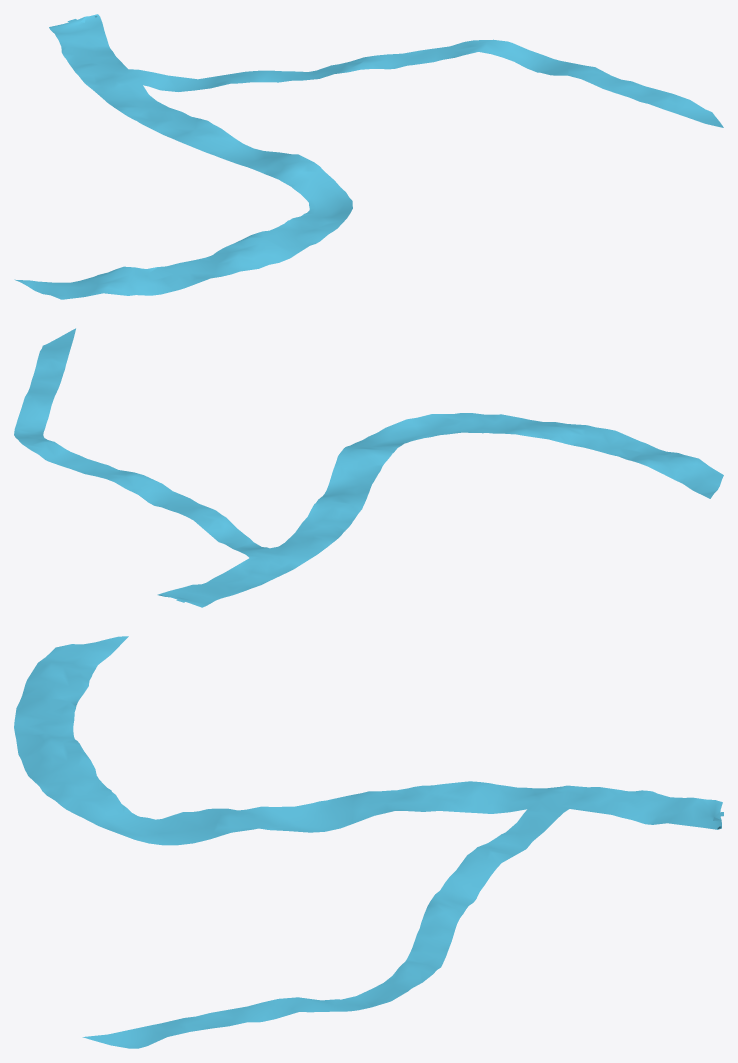
3 views of the same model, one above another, from view 1: azimuth 30°, elevation 25°; view 2: azimuth 150°, elevation 25°; view 3: azimuth 270°, elevation 25° (orthographic). The views are drawn at different scales.
Visible parts, largest first — view 1: 川; view 2: 川; view 3: 川.
Part boxes in pixels (left/top/right/bottom): 川: left=14, top=14, right=723, bottom=299; 川: left=14, top=328, right=723, bottom=607; 川: left=14, top=636, right=723, bottom=1048.
Size of the model in its own units: 93.35 by 1.61 by 69.14.
